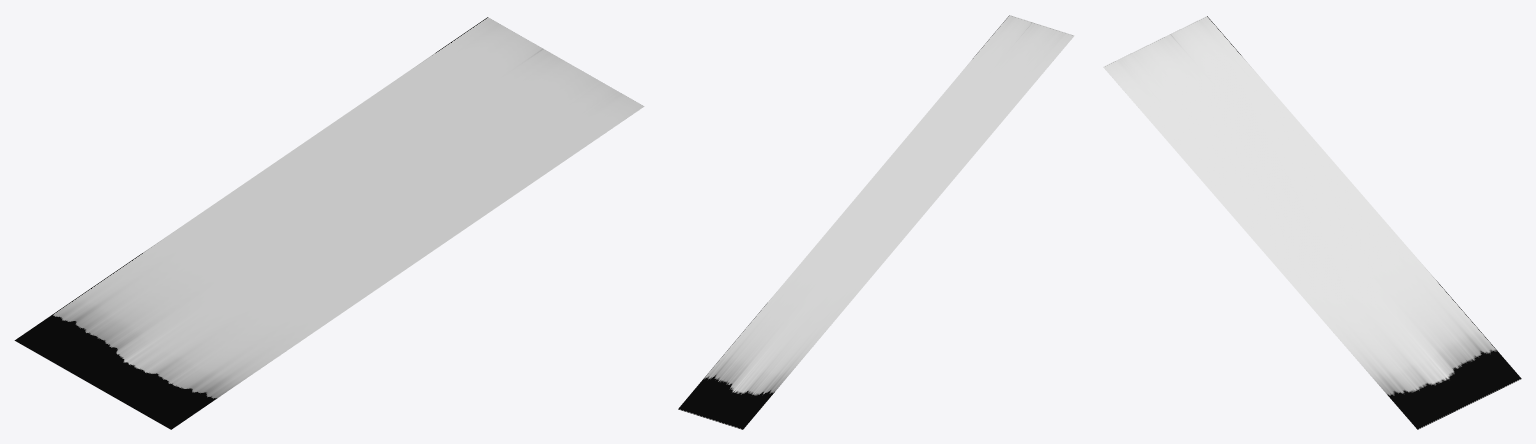
Rendered from LightShaft.glb.
3 views of the same model, side by side, from view 1: azimuth 90°, elevation 25°; view 2: azimuth 150°, elevation 25°; view 3: azimuth 270°, elevation 25° (orthographic). The views are drawn at different scales.
Parts seen in each view (by area): view 1: Plane.001; view 2: Plane.001; view 3: Plane.001.
Part boxes in pixels (x1,y1,x2,y2): Plane.001: [14, 17, 644, 429]; Plane.001: [678, 15, 1074, 429]; Plane.001: [1103, 16, 1521, 429].
Bounding box in the file's own units: 2.38 × 4.76 × 5.25.
Materials: 1 (1 with a texture image).
